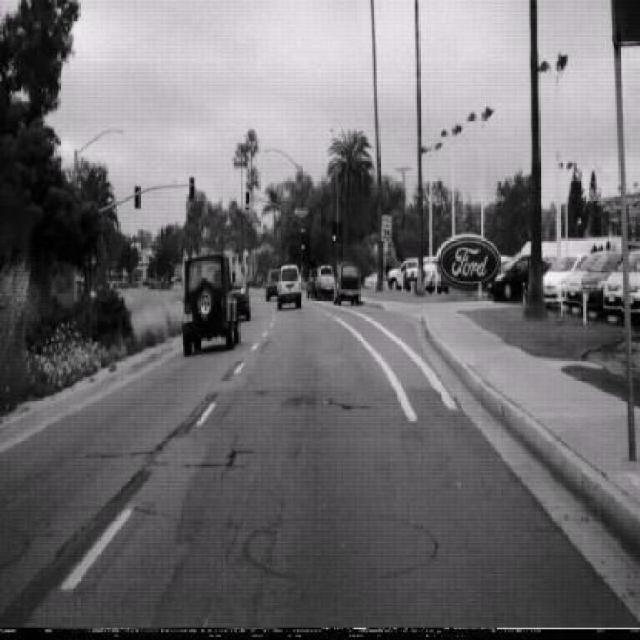speedLimit35: (380, 213, 392, 244)
